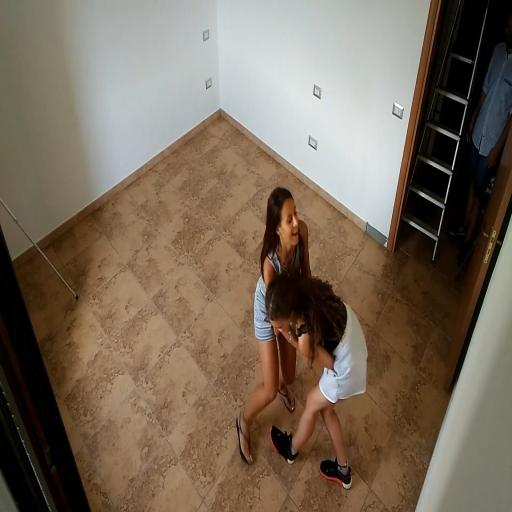violencia: (216, 159, 377, 498)
